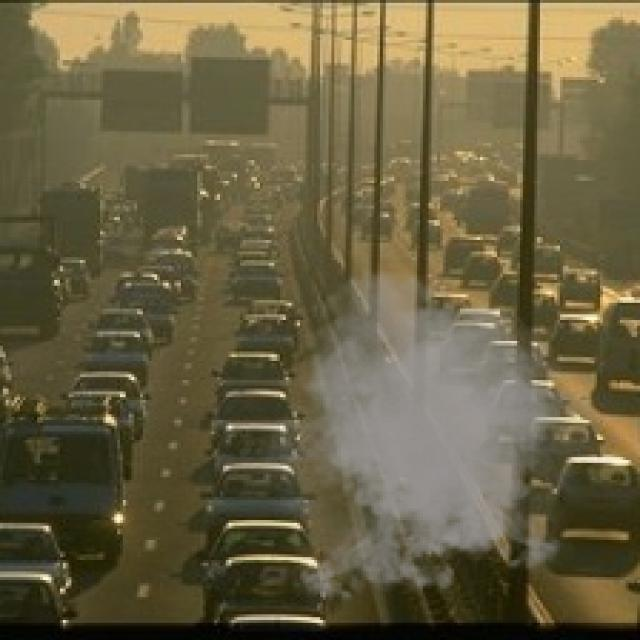smoke: (246, 266, 614, 611)
